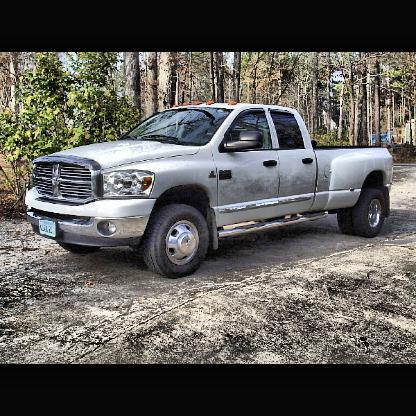Dodge Ram Pickup 3500 Quad Cab 2009: (23, 100, 398, 283)
